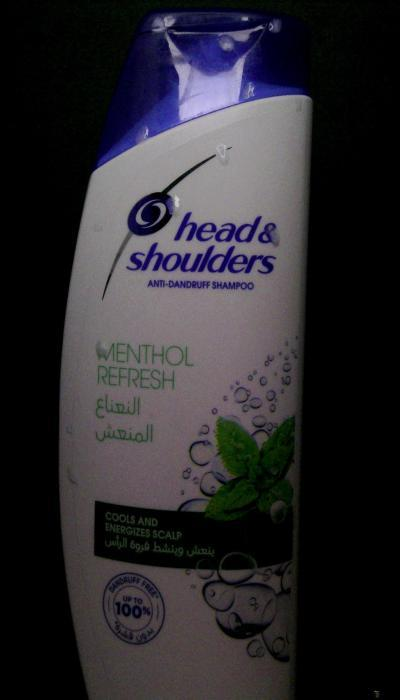pob_marg: (63, 460, 82, 493), (214, 34, 240, 58), (130, 123, 154, 149), (161, 192, 184, 219), (210, 142, 232, 170), (239, 76, 259, 106), (267, 227, 287, 253), (90, 337, 110, 361), (264, 16, 282, 38), (149, 14, 164, 40), (90, 216, 106, 240), (163, 13, 180, 33), (292, 94, 306, 115), (62, 421, 76, 438), (236, 13, 252, 26)
